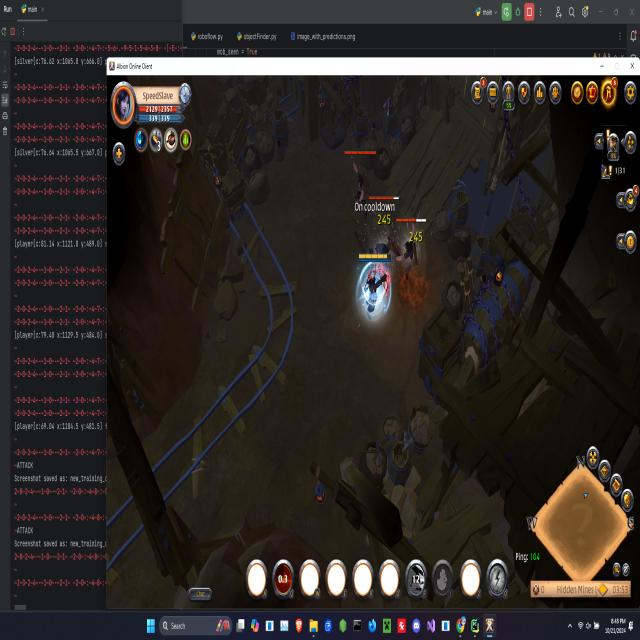ore: (358, 195, 402, 272), (394, 214, 430, 289), (343, 145, 377, 221)
red: (358, 252, 393, 321)
